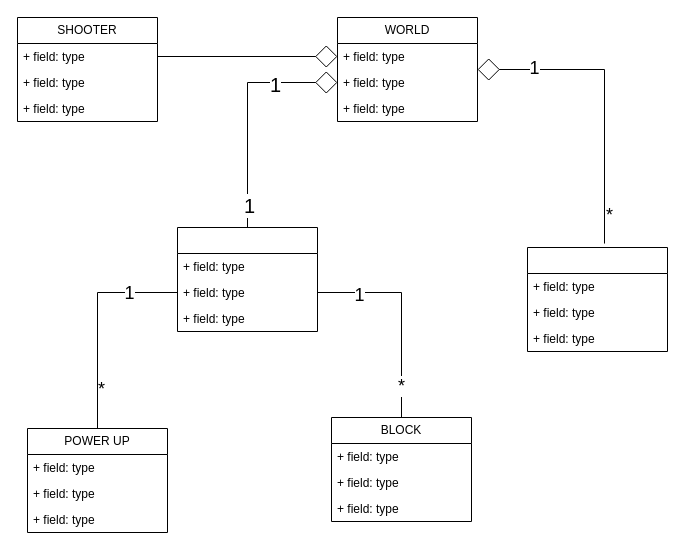
Some shapes in this 685 by 553 pixel diagram are drawn without their labels. The box of each missing label's shape, as (x1, y1, x2, y2) in pixels:
BALL: (526, 246, 668, 352)
GRID: (176, 226, 318, 332)
